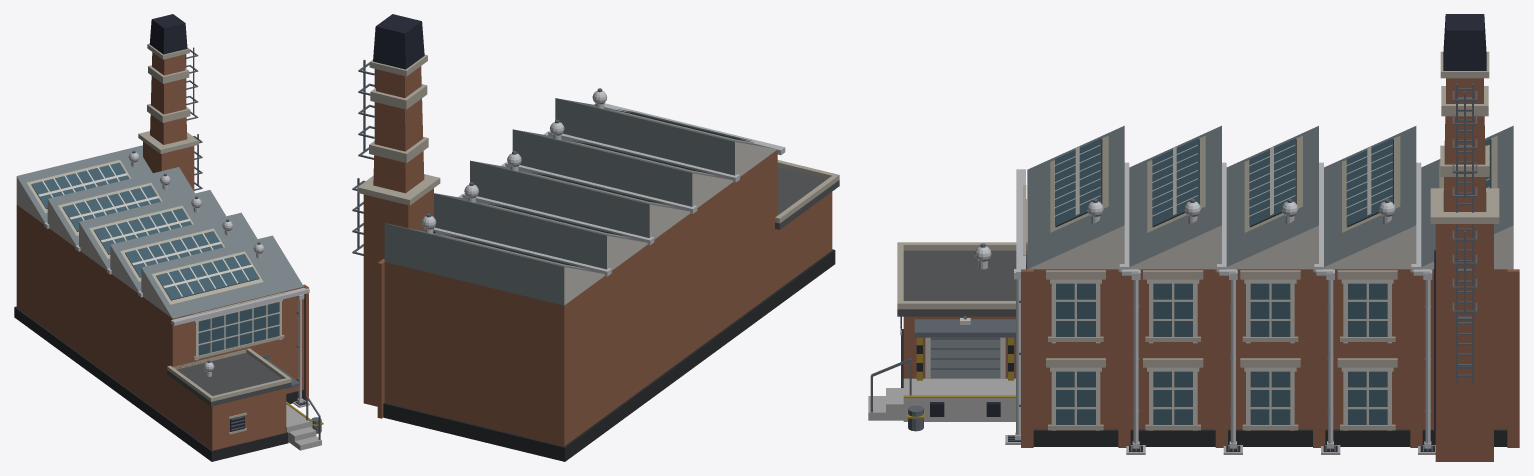
File: industrial_factory_lvl2.glb
3 renders of one model, left to right at view 1: azimuth 30°, elevation 25°; view 2: azimuth 150°, elevation 25°; view 3: azimuth 270°, elevation 25°, orthographic. The views are drawn at different scales.
Parts seen in each view (by area): view 1: industrial_factory, industrial_factory_Glass; view 2: industrial_factory, industrial_factory_Glass; view 3: industrial_factory, industrial_factory_Glass.
Boxes of the visible parts, x1=… form: industrial_factory: x1=14, y1=14, x2=323, y2=461; industrial_factory_Glass: x1=31, y1=162, x2=279, y2=355; industrial_factory: x1=352, y1=14, x2=839, y2=461; industrial_factory_Glass: x1=445, y1=109, x2=753, y2=266; industrial_factory: x1=868, y1=14, x2=1519, y2=461; industrial_factory_Glass: x1=1026, y1=138, x2=1490, y2=424.
Size of the model in its own units: 0.4688 by 0.7239 by 1.
